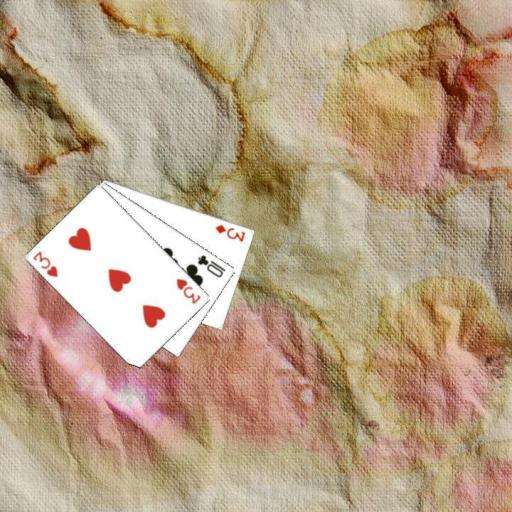card-corner: (30, 248, 60, 279), (174, 275, 202, 306), (195, 252, 227, 278), (212, 221, 247, 243)
